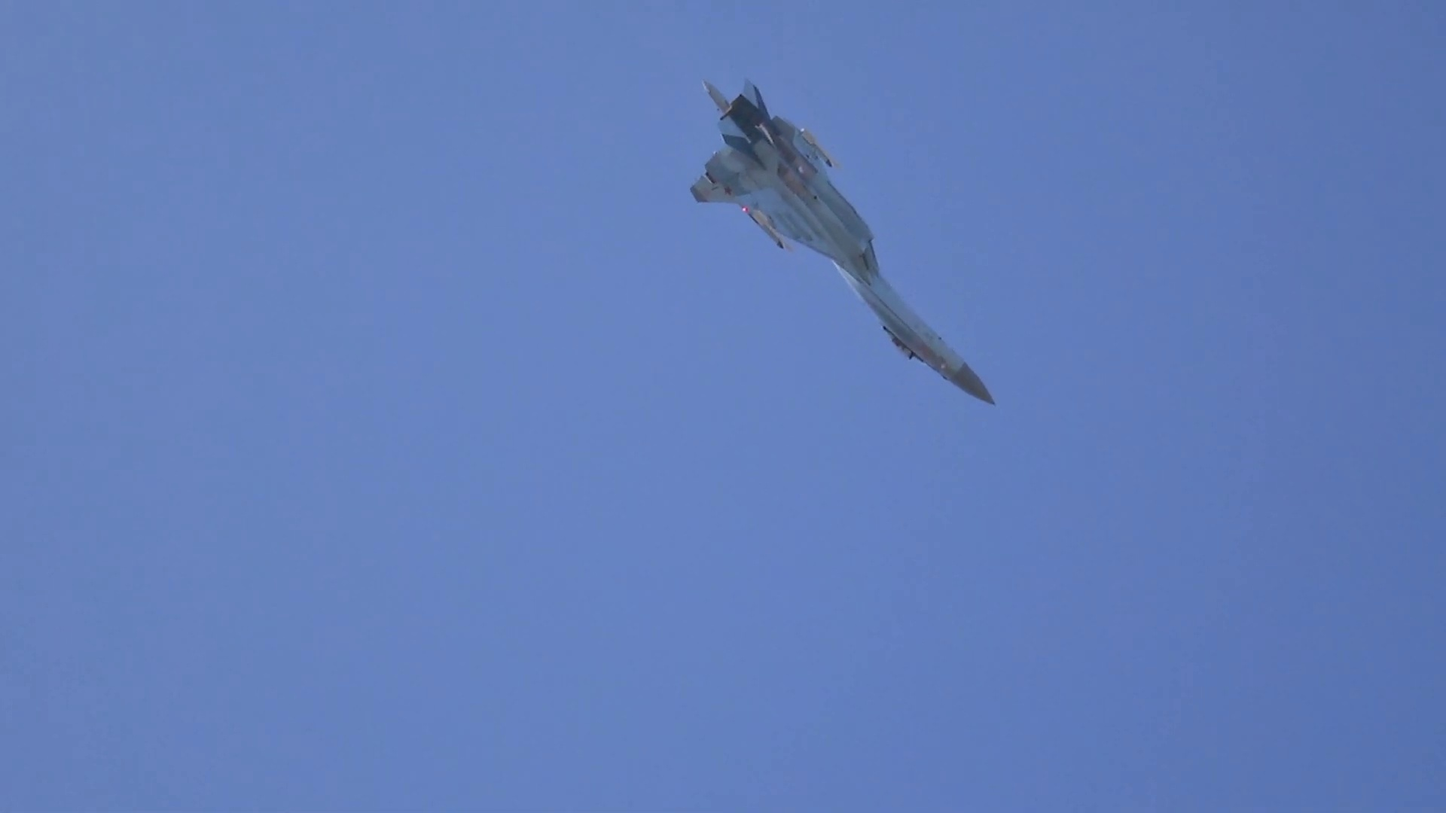Su35: (689, 78, 998, 408)
